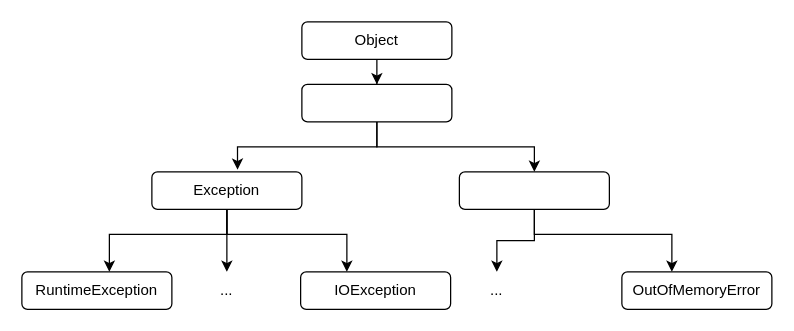
Image size: 794x331. Some labels were removed from this diagram. The shapes that lost their labels are listed below. From the top down, each one's box as (x1, y1, x2, y2) in pixels, then its label:
(301, 83, 452, 122): Throwable
(458, 171, 609, 209): Error
